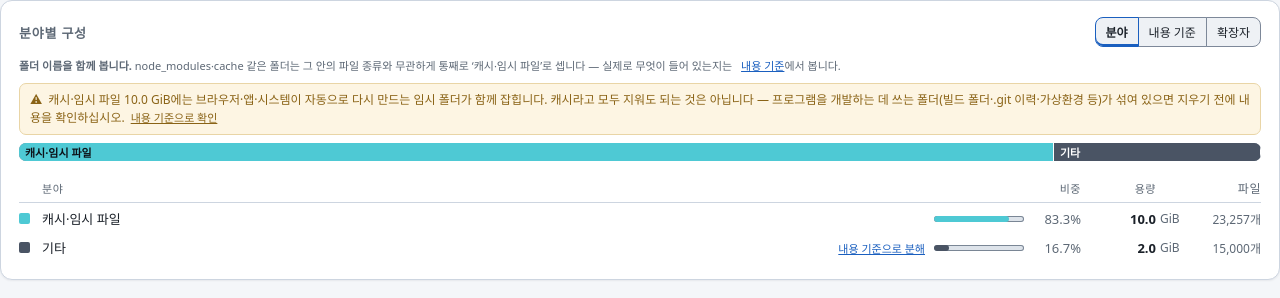
Test: 1위 분야 주의 › '캐시를 지우면 다 생긴다'는 오해를 툴팁이 아닌 본문으로 막는다
Expected: the text "지워도 되는 것은 아닙니다" is shown, [30,91,1250,126]
// 그 문장에서 곧바로 '내용 기준' 축으로 넘어갈 수 있어야 탭의 용도까지 학습된다.
Click the button "내용 기준으로 확인" at (174, 118), box [131,110,217,126]
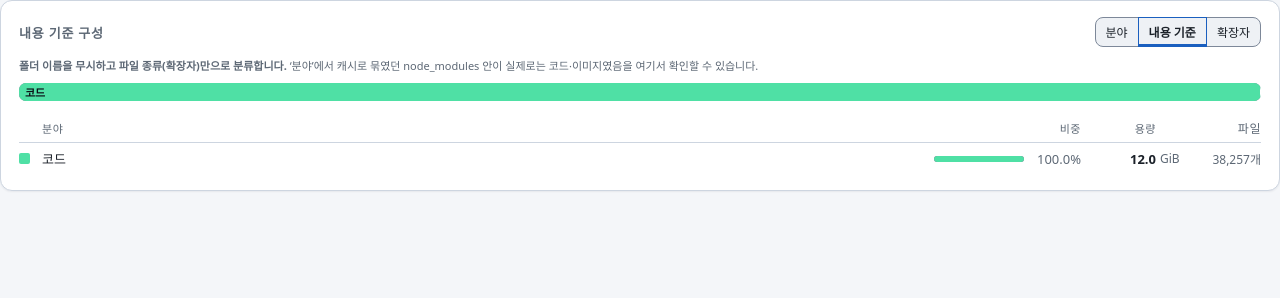
Expected: the heading reads "내용 기준 구성", [19,24,104,42]
